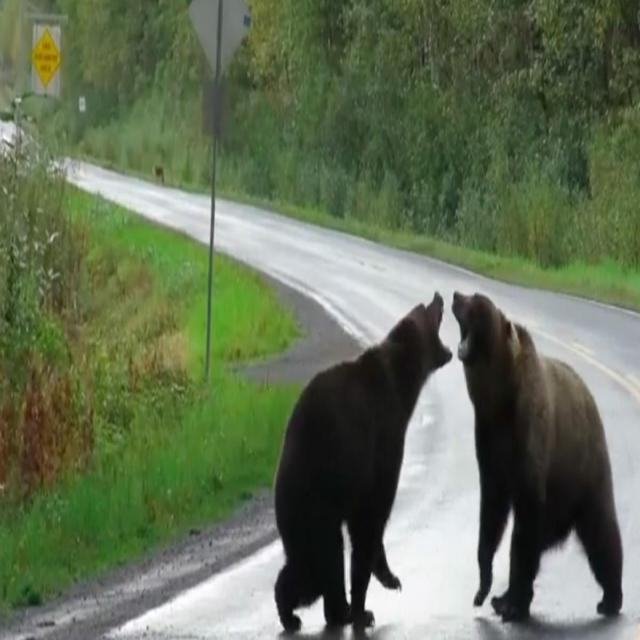Bear: (273, 295, 460, 640), (451, 294, 625, 625)
